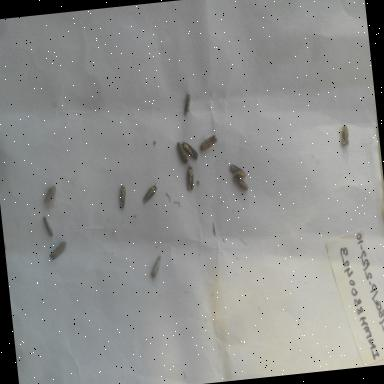pbw: (228, 170, 252, 200), (140, 180, 164, 210), (44, 240, 69, 268), (179, 133, 202, 163), (148, 249, 168, 281), (337, 120, 357, 151), (41, 184, 66, 208), (181, 90, 201, 118), (195, 136, 220, 158), (182, 164, 200, 194), (228, 159, 249, 183), (116, 184, 134, 212), (172, 140, 187, 168), (40, 214, 56, 240)
